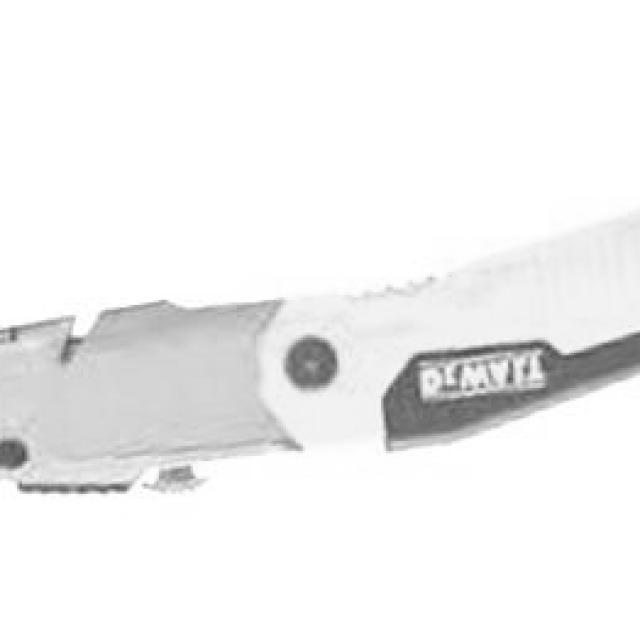estilete: (0, 209, 640, 492)
